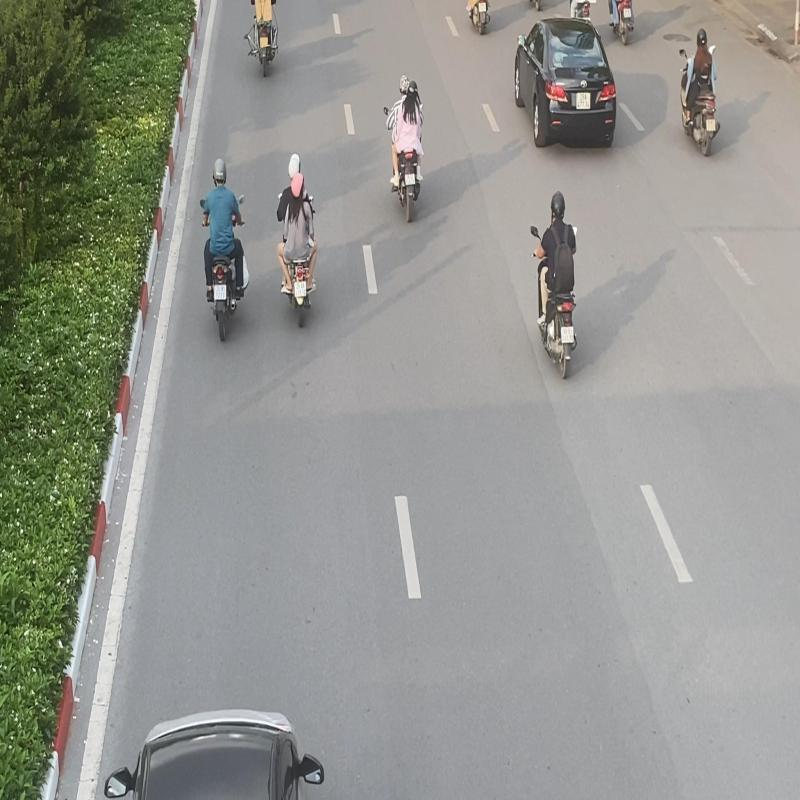helmet: (550, 191, 566, 219), (290, 174, 304, 197), (288, 152, 300, 177), (214, 160, 226, 182)
licenseplate: (560, 326, 574, 343), (294, 282, 306, 298), (214, 286, 226, 299)
motorcyclist: (528, 189, 582, 380), (199, 157, 249, 344), (276, 150, 318, 328)
